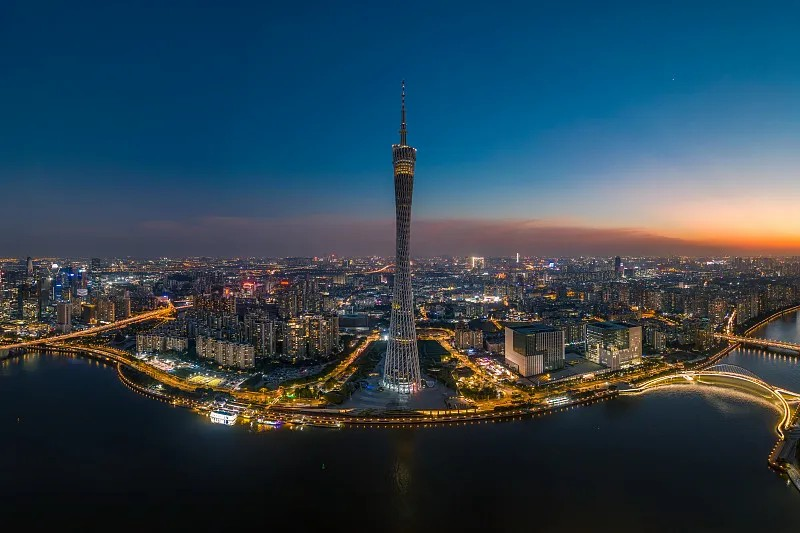Canton: (381, 81, 423, 394)
